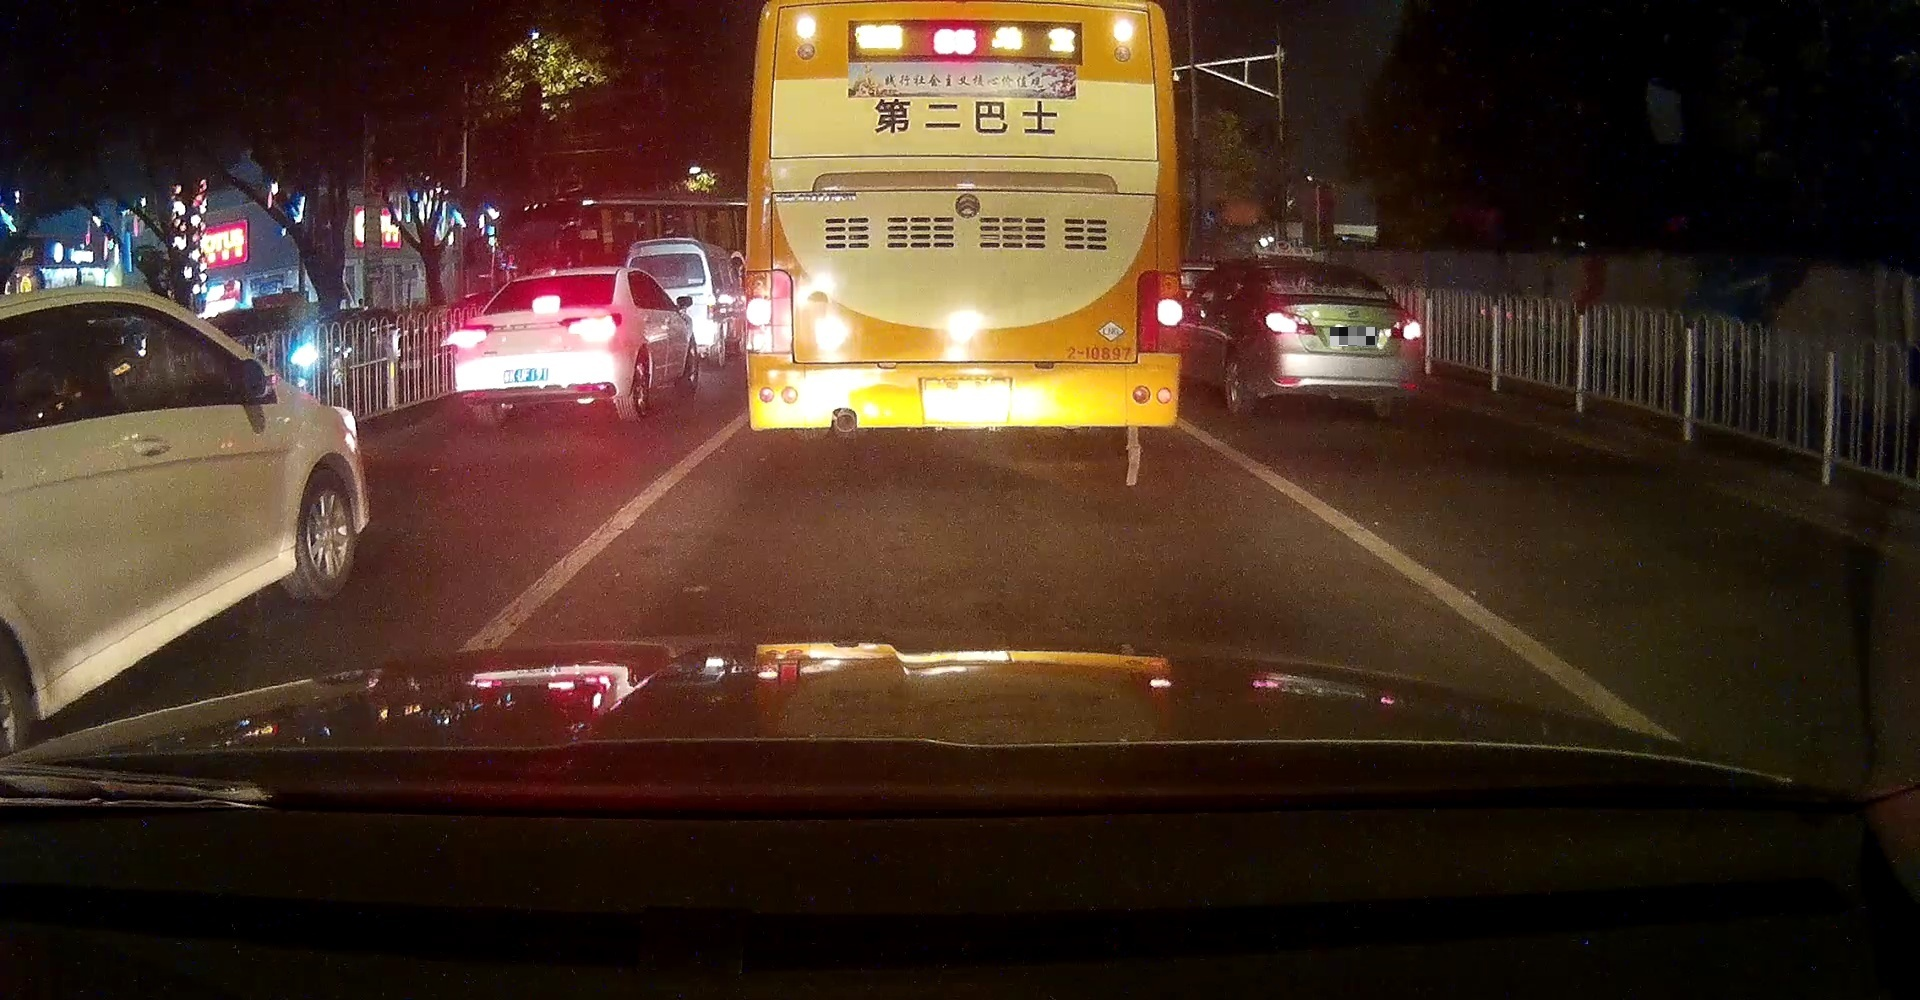L_light: (743, 268, 792, 355), (1258, 310, 1316, 335), (453, 324, 494, 349)
R_light: (1137, 269, 1183, 354), (559, 312, 623, 336), (1385, 319, 1423, 340)
T_light: (947, 0, 992, 15), (531, 294, 561, 310), (1313, 268, 1333, 275)
night-brake: (453, 266, 623, 425)
night-no: (743, 0, 1183, 445), (1255, 255, 1423, 419)
plate_1: (1330, 327, 1377, 346)
